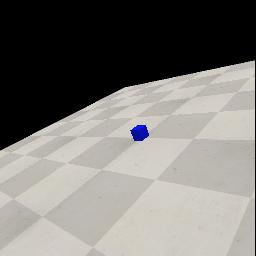box: (130, 125, 149, 141)
